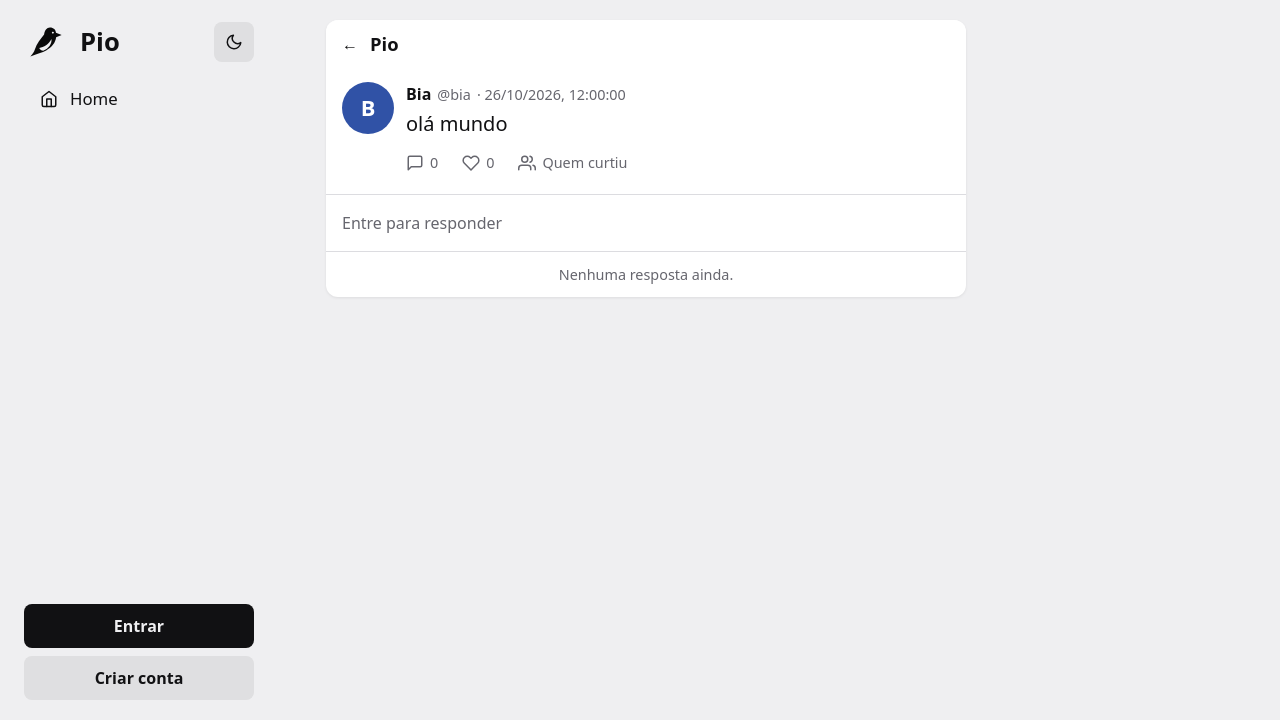
visitante (sem conta) › entrar pelo aviso leva de volta ao pio onde ele estava, já como quem tem conta
Click the button named "Curtir (0)" at (478, 163), box top-left (452, 146), bottom-right (504, 180)
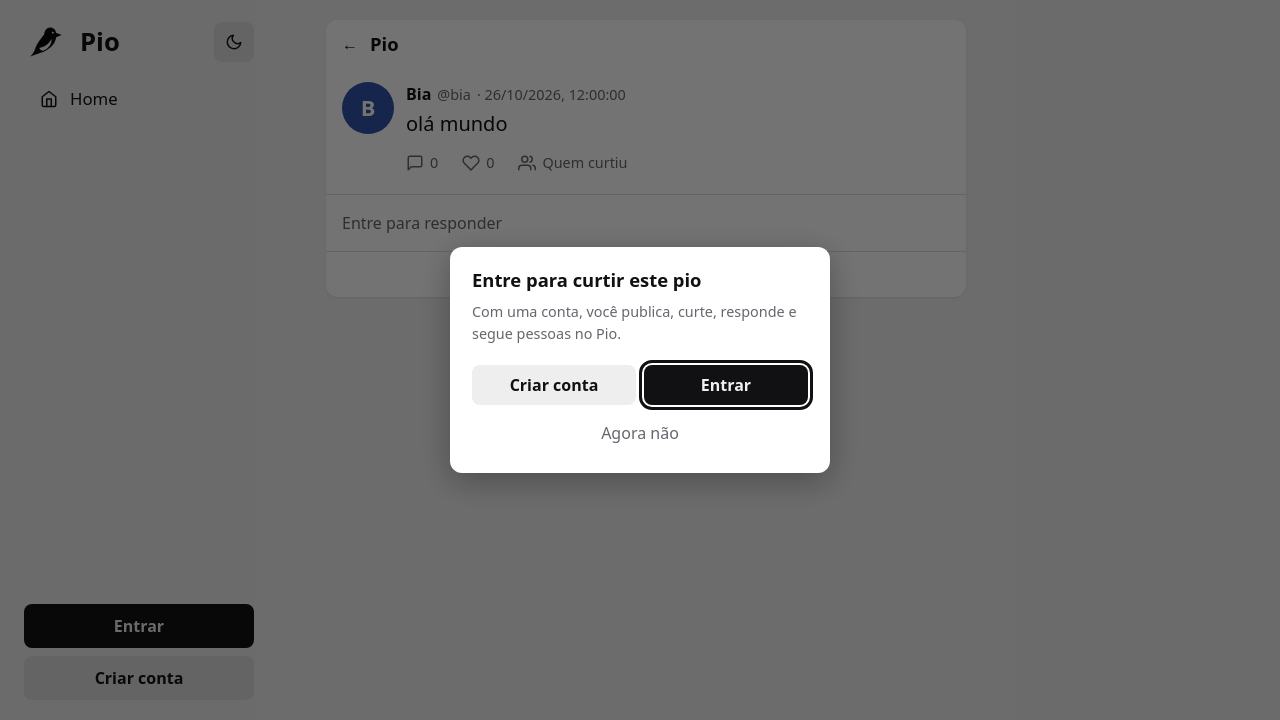
Click the link "Entrar" at (726, 385), box top-left (644, 365), bottom-right (808, 405)
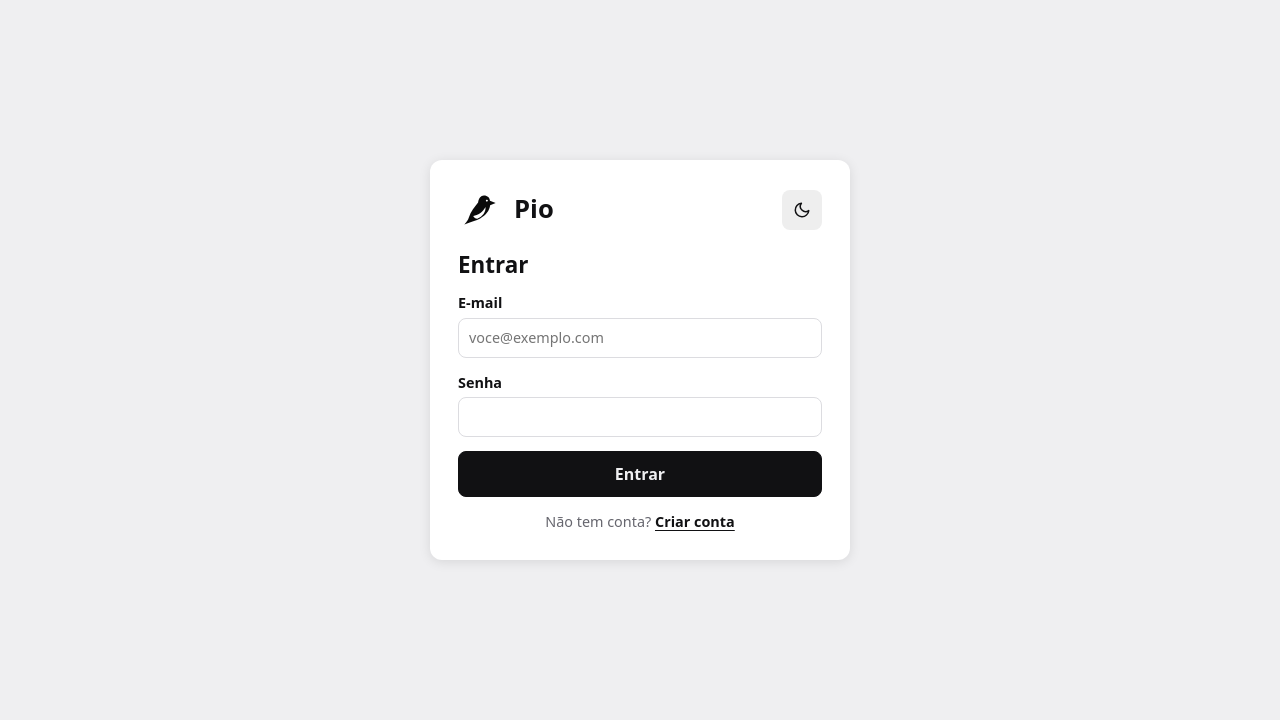
Type "ana@x.com" into the field labelled "E-mail" at (640, 338), box top-left (458, 318), bottom-right (822, 358)
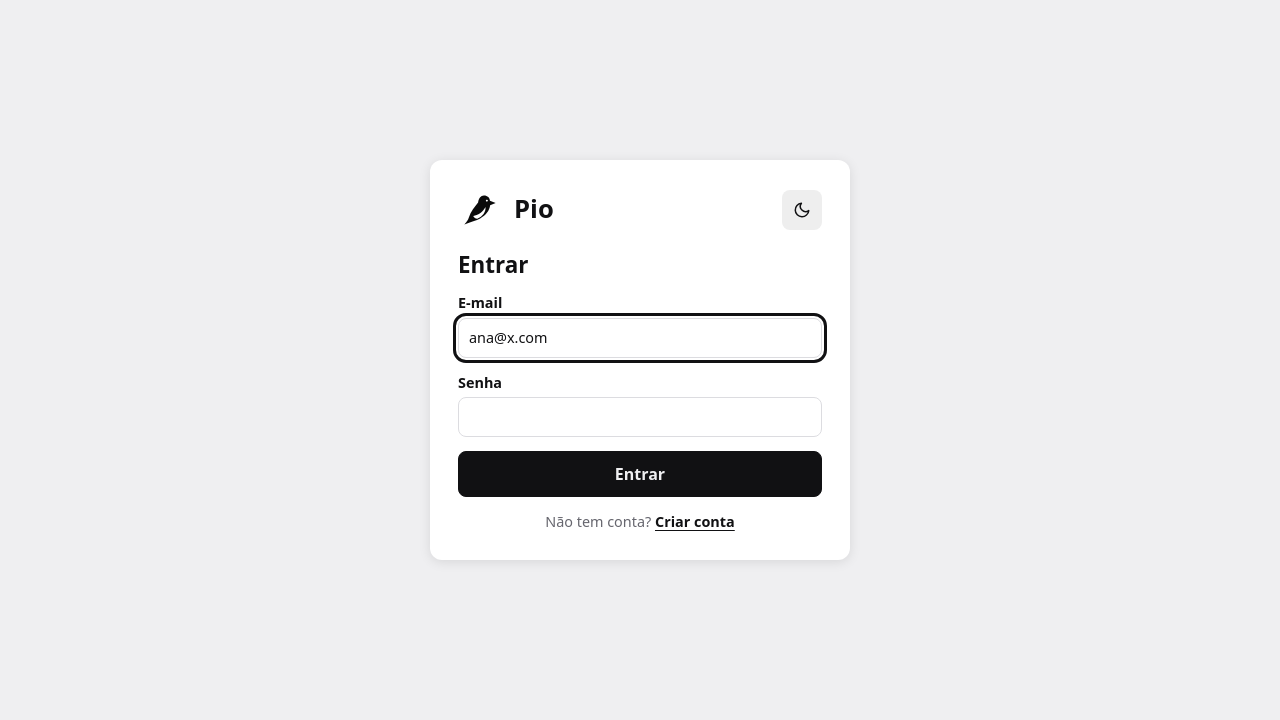
Type "senha-segura" into the password field labelled "Senha" at (640, 417), box top-left (458, 397), bottom-right (822, 437)
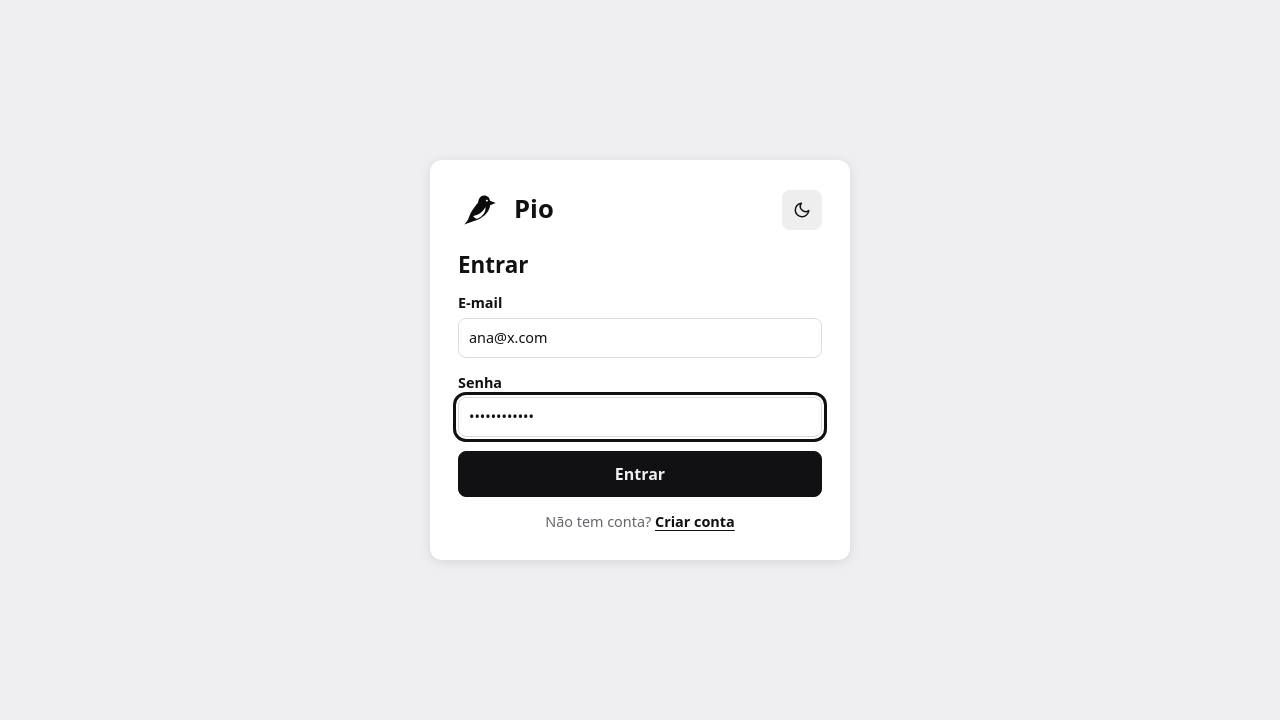
Click the button "Entrar" at (640, 474), box top-left (458, 451), bottom-right (822, 497)
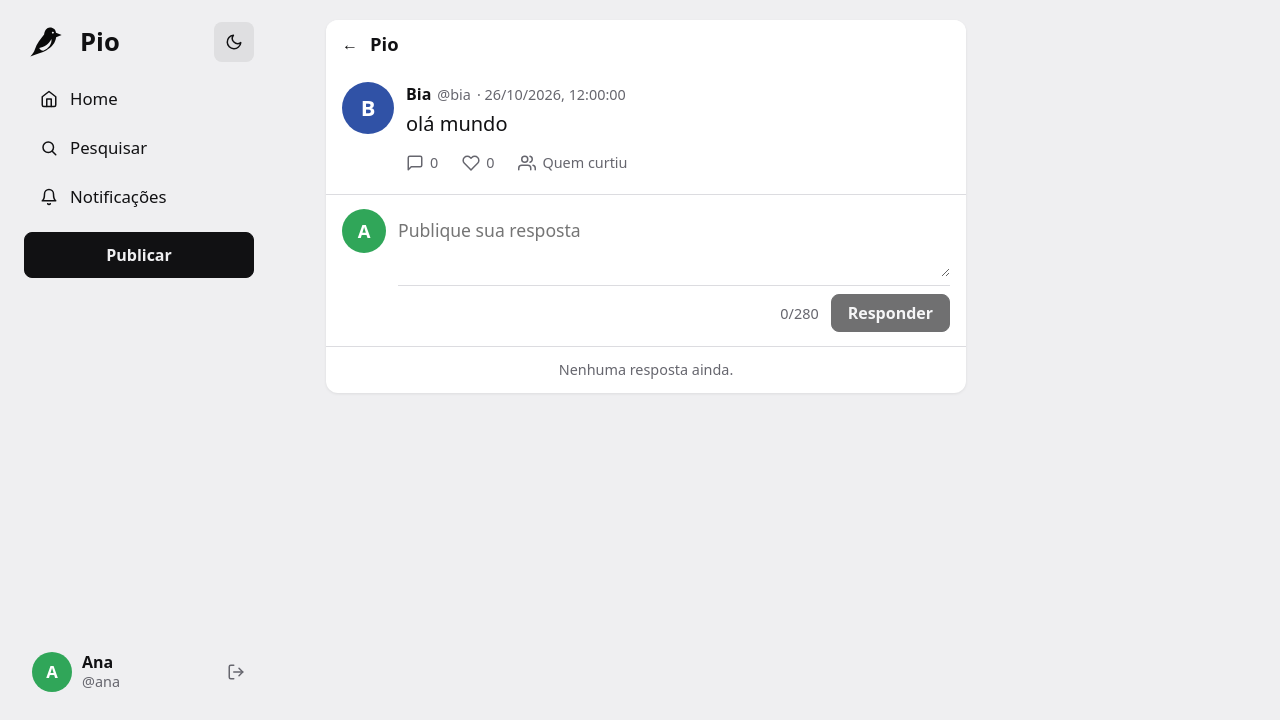
Now the text box labelled "sua resposta" is shown, box top-left (398, 209), bottom-right (950, 277)
Now the text "olá mundo" is shown, box top-left (406, 110), bottom-right (508, 137)
